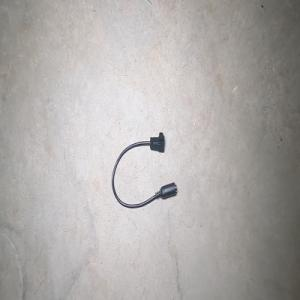Wire: (111, 131, 177, 208)
